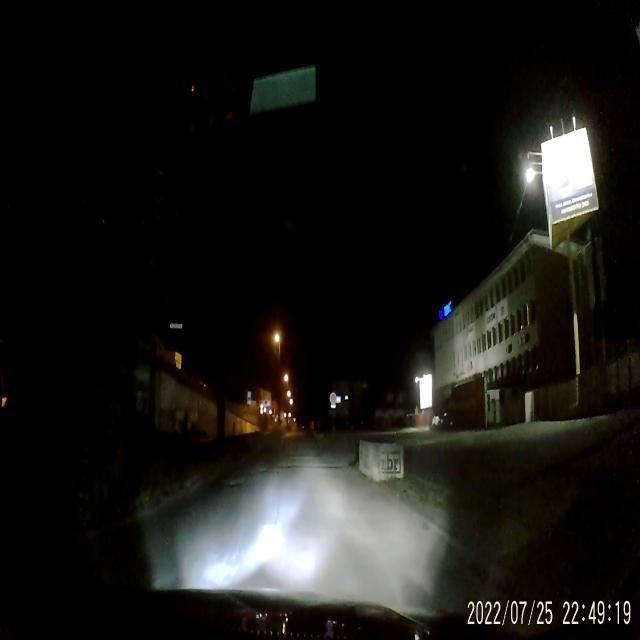Pothole: (223, 471, 244, 495)
